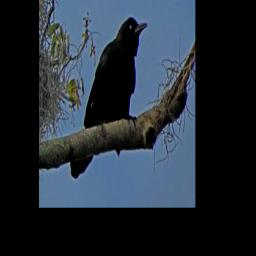Crow: (70, 17, 147, 179)
